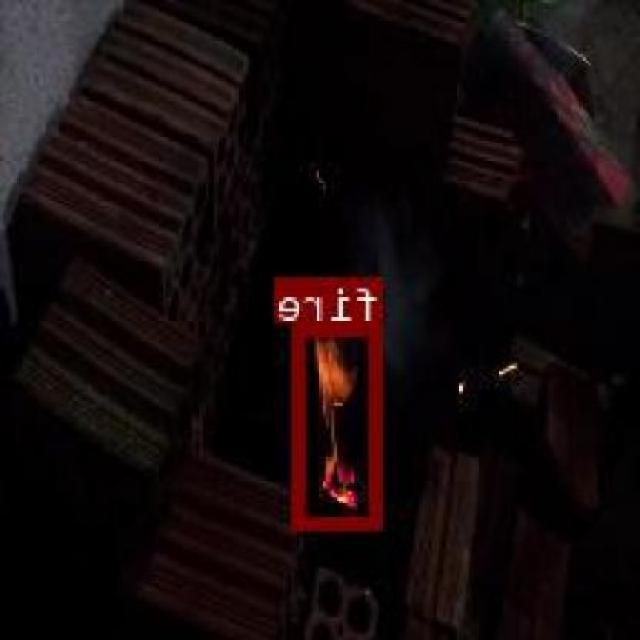fire: (296, 322, 384, 528)
